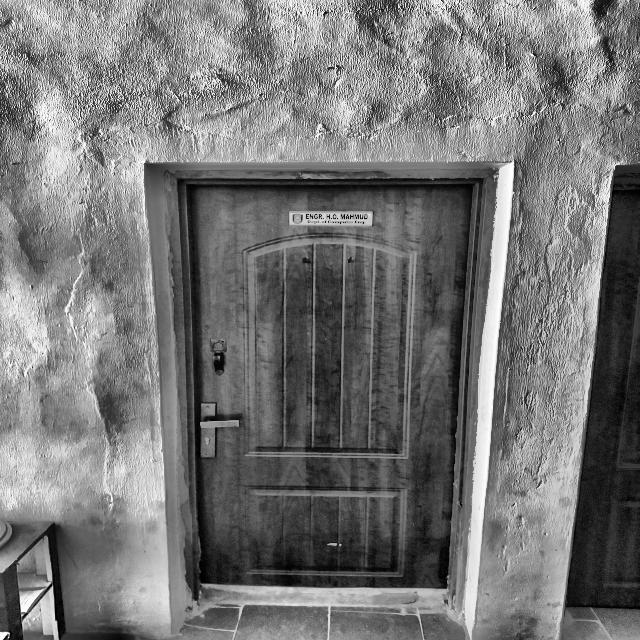door: (172, 177, 476, 619)
